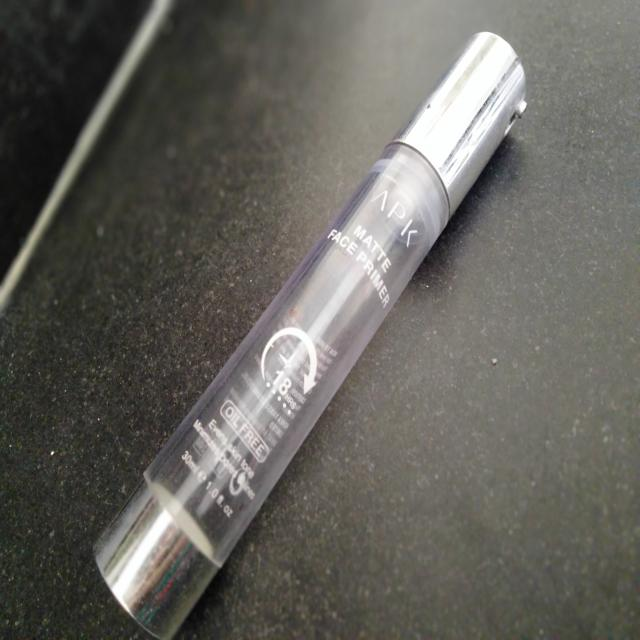primer: (73, 18, 543, 640)
